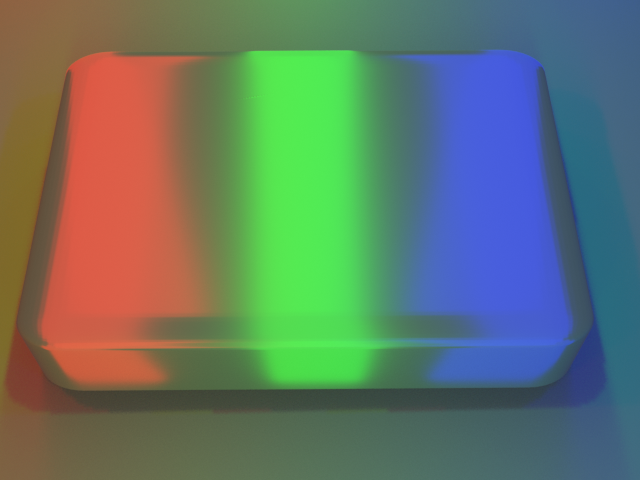scratch: (175, 41, 323, 117)
